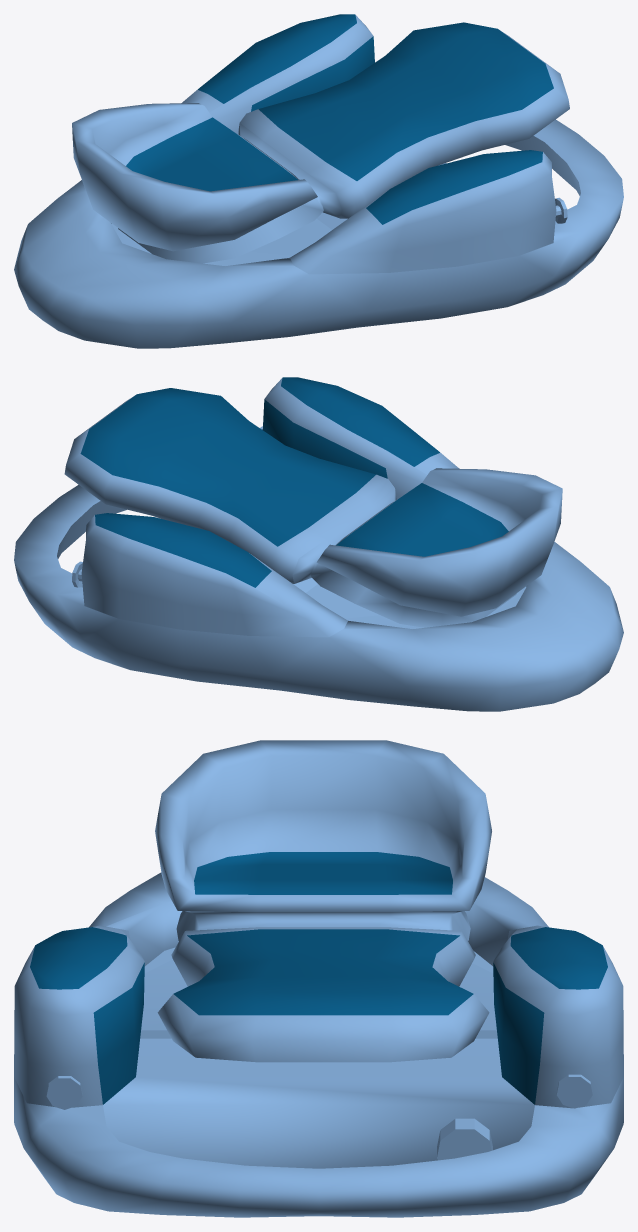
Rendered from FootPedal_Blue.fbx.
3 views of the same model, one above another, from view 1: azimuth 30°, elevation 25°; view 2: azimuth 150°, elevation 25°; view 3: azimuth 270°, elevation 25° (orthographic). The views are drawn at different scales.
Visible parts, largest first — view 1: FootPedal_Blue; view 2: FootPedal_Blue; view 3: FootPedal_Blue.
Part boxes in pixels (left/top/right/bottom): FootPedal_Blue: left=14, top=14, right=623, bottom=348; FootPedal_Blue: left=14, top=377, right=623, bottom=711; FootPedal_Blue: left=14, top=740, right=623, bottom=1217.
Size of the model in its own units: 43.53 by 11.94 by 30.43.
